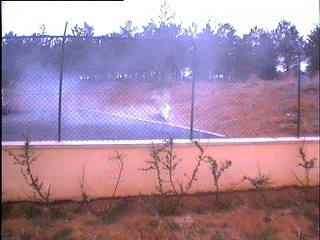smoke: (9, 38, 190, 137)
